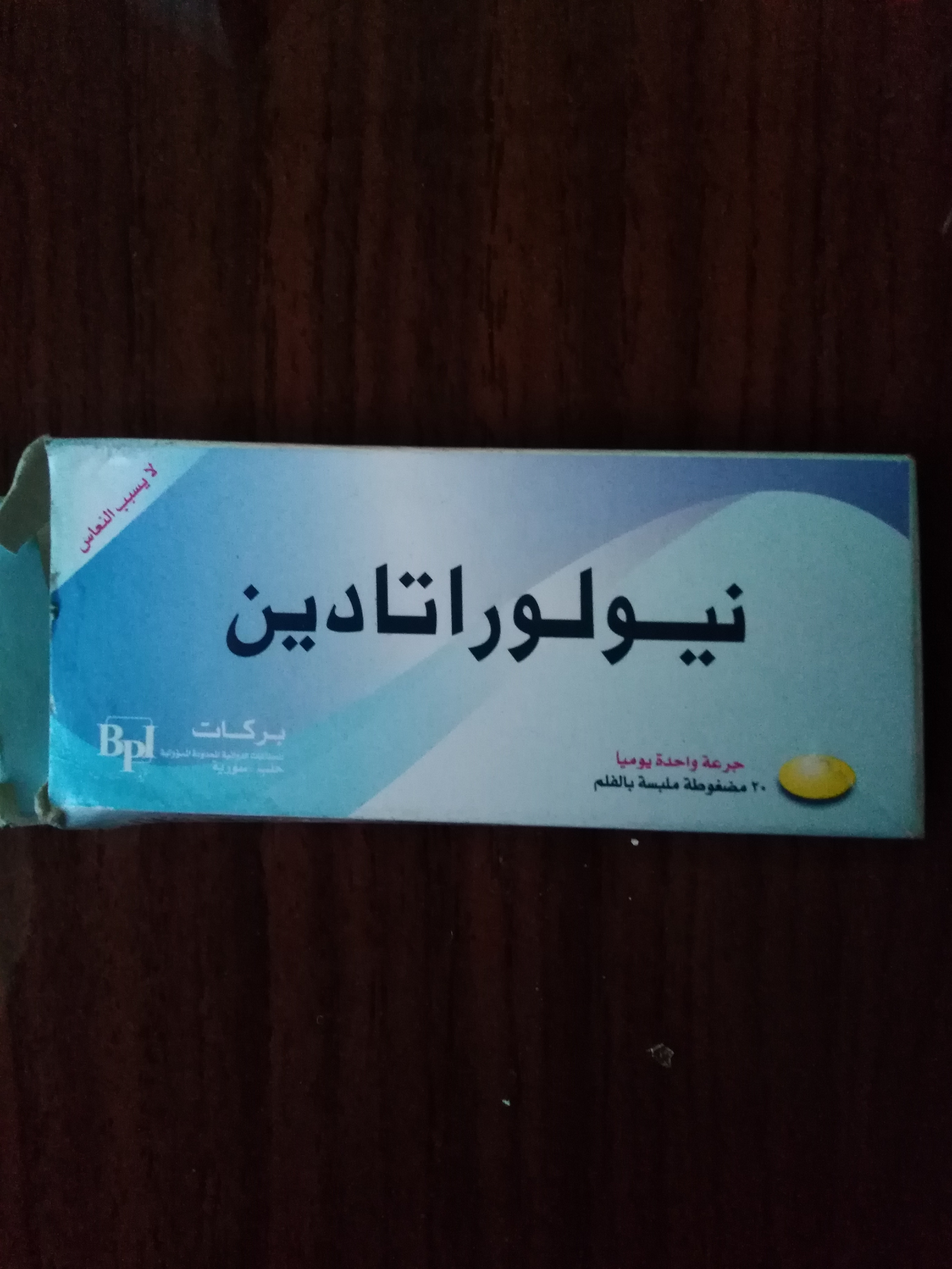Medicine: (16, 412, 946, 853)
